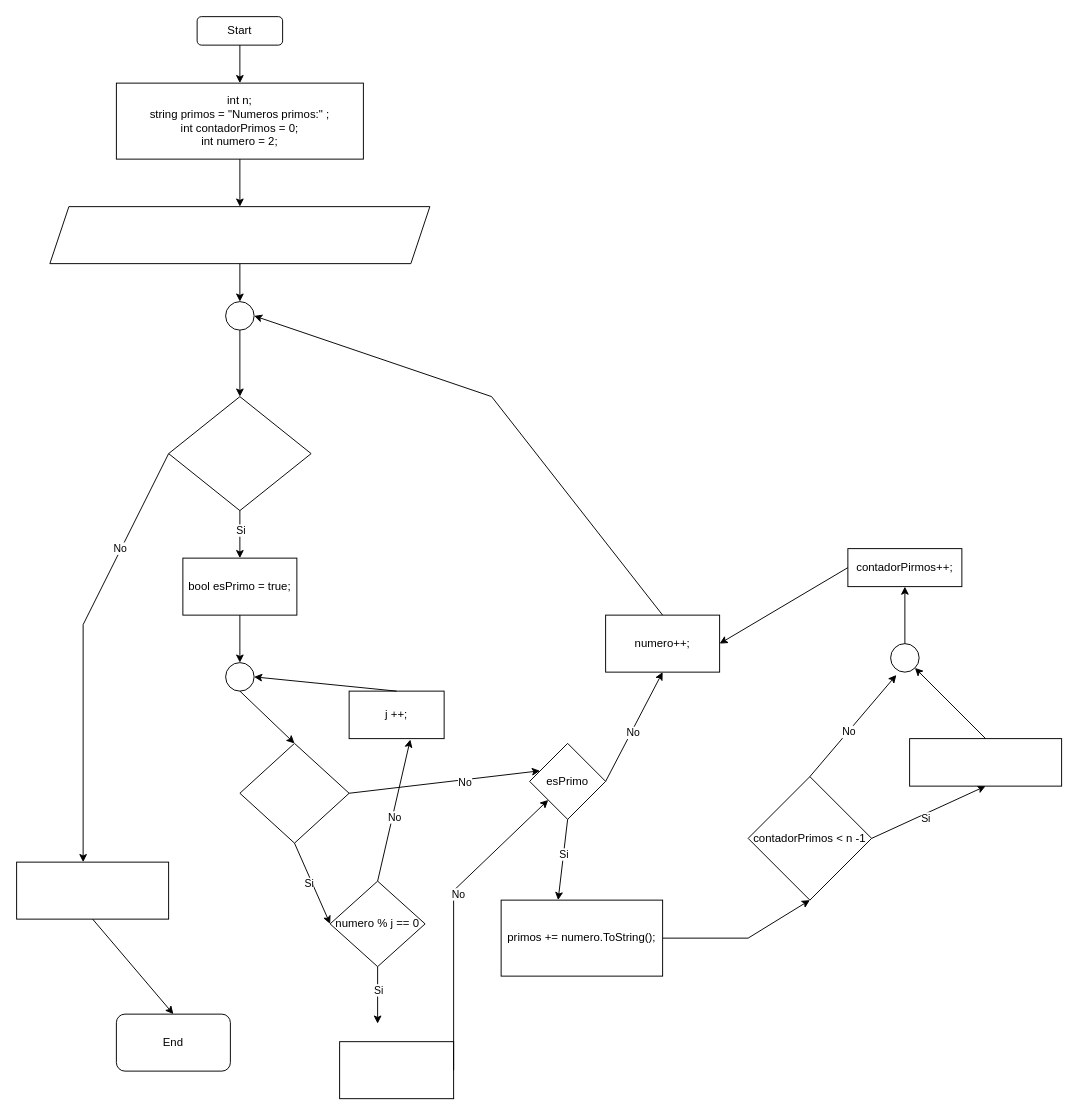
The diagram is 1078 pixels wide and 1115 high, and some of its shapes have lost their labels. The centre of each missing label's shape, as x and y in pixels:
"Ingrese la cantidad de numeros primos que desea obtener": [239,235]
contadorPrimos < n: [239,453]
esPrimo = false; break;: [396,1070]
j * j <= numero: [294,792]
primos += ", ";: [985,762]
textBox5.Text = primos;: [92,890]
